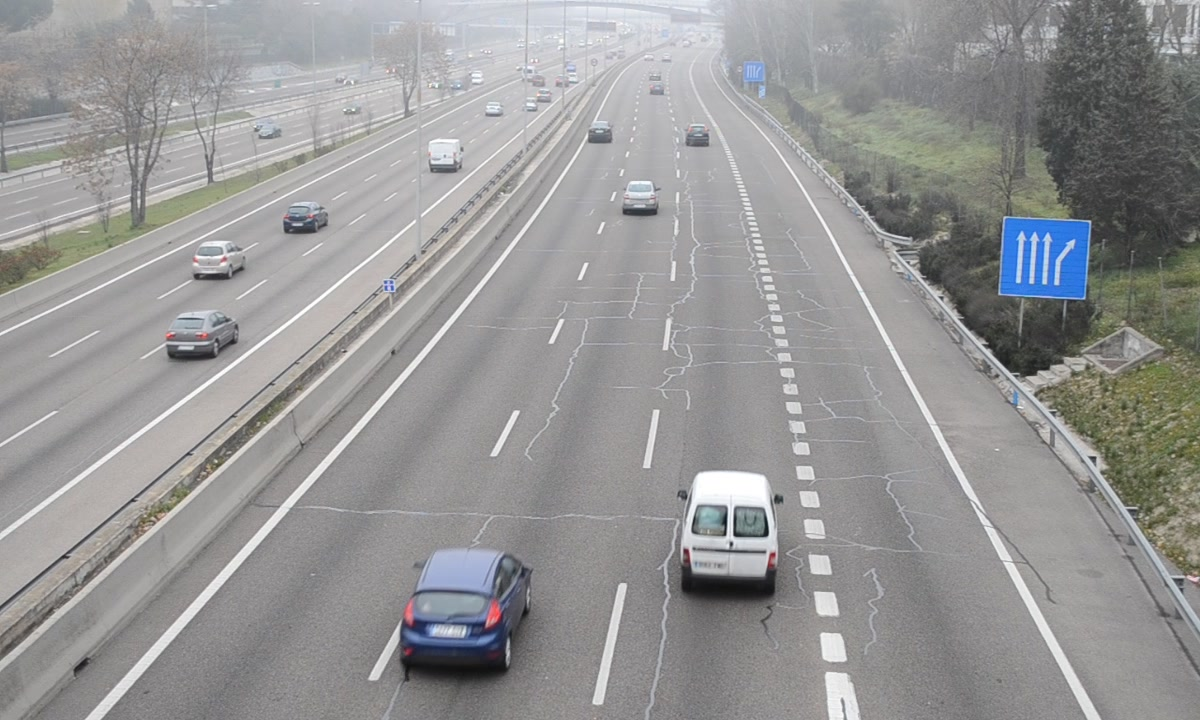car: (403, 549, 529, 668), (622, 180, 657, 214), (587, 120, 614, 145), (685, 123, 709, 146)
van: (682, 472, 780, 593)
